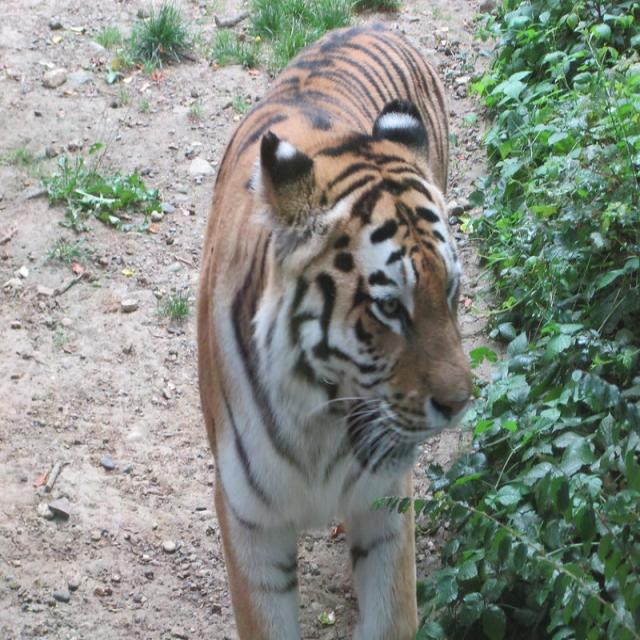Tiger: (191, 12, 481, 639)
